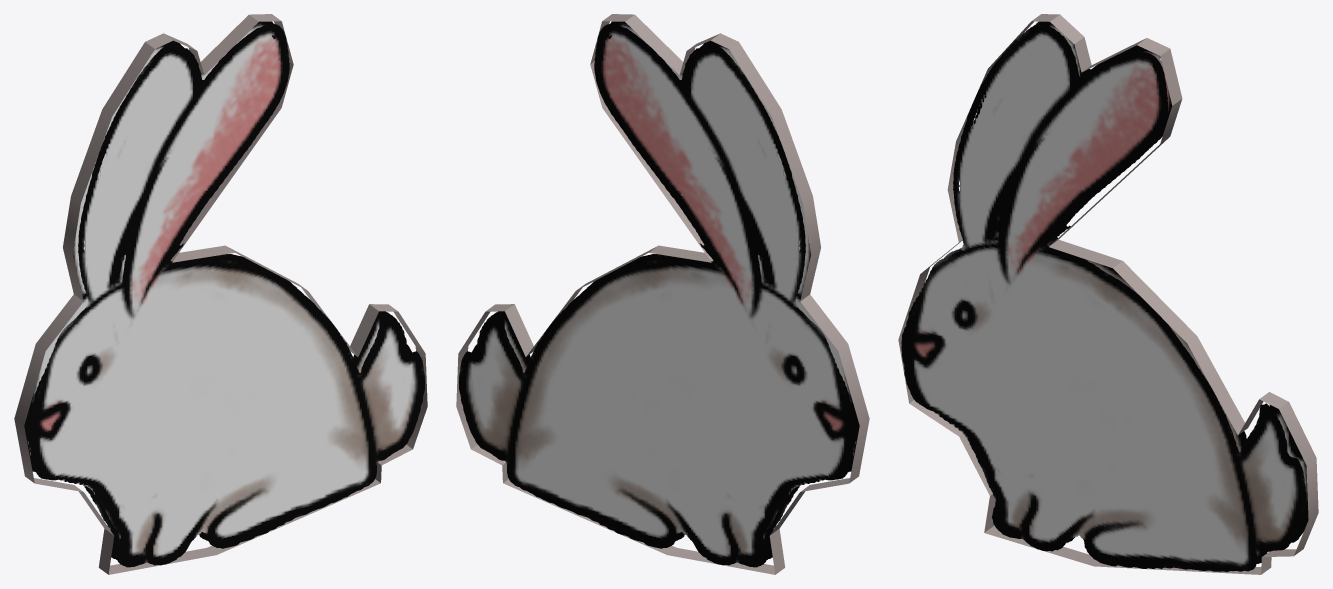
File: Rabbit_MDL.fbx
3 renders of one model, left to right at view 1: azimuth 30°, elevation 25°; view 2: azimuth 150°, elevation 25°; view 3: azimuth 330°, elevation 25°, orthographic.
Visible parts, largest first — view 1: RabbitBase_MDL; view 2: RabbitBase_MDL; view 3: RabbitBase_MDL.
Boxes of the visible parts, box(x1,y1,x2,y2) form: RabbitBase_MDL: box(14, 14, 427, 574); RabbitBase_MDL: box(456, 14, 869, 574); RabbitBase_MDL: box(898, 14, 1318, 574).
Size of the model in its own units: 0.5539 by 0.6889 by 0.0236.
